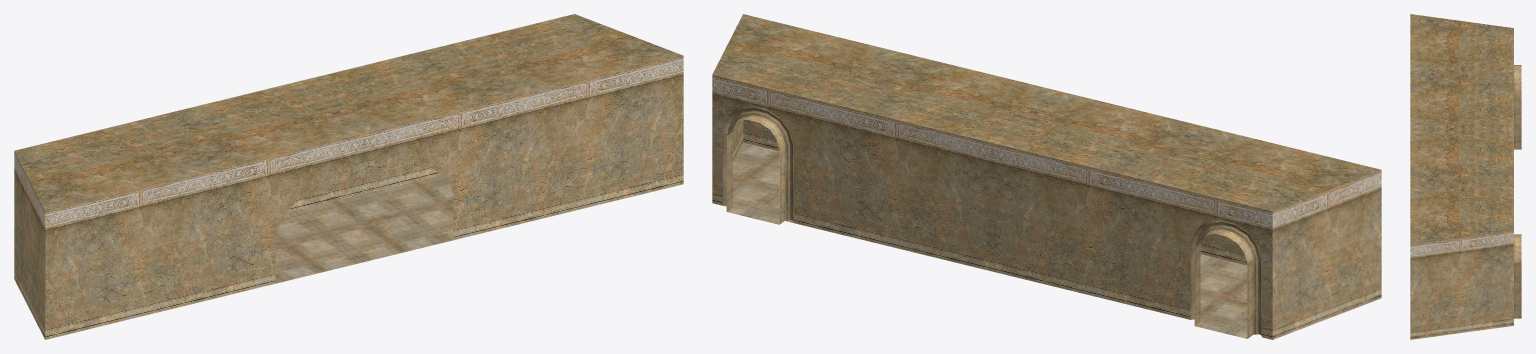
The model's file is thm_lok_nyms_stronghold_r4_foyer3_mesh_foyer3.fbx.
3 views of the same model, side by side, from view 1: azimuth 30°, elevation 25°; view 2: azimuth 150°, elevation 25°; view 3: azimuth 270°, elevation 25° (orthographic). The views are drawn at different scales.
Parts seen in each view (by area): view 1: mesh_node; view 2: mesh_node; view 3: mesh_node.
Part boxes in pixels (x1,y1,x2,y2): mesh_node: (14,14,683,339); mesh_node: (712,14,1381,339); mesh_node: (1410,14,1521,339).
Bounding box in the file's own units: 19.8 × 3.81 × 4.05.
